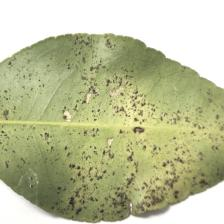canker: (74, 68, 174, 213)
